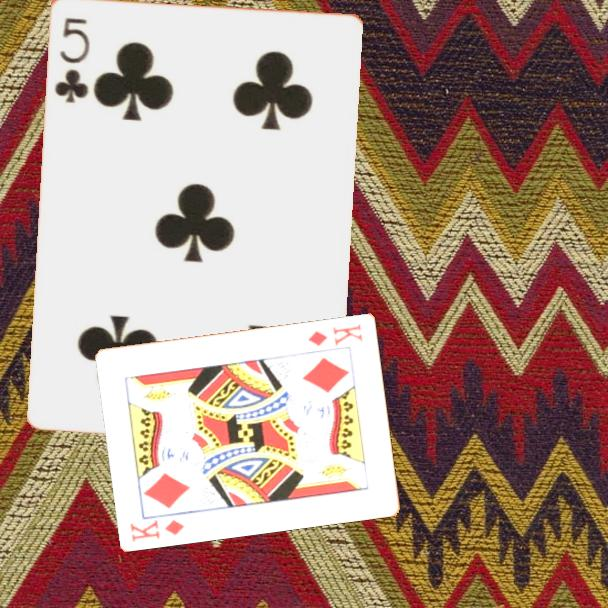c05: (50, 14, 92, 105)
d13: (127, 516, 187, 545), (305, 320, 366, 348)
